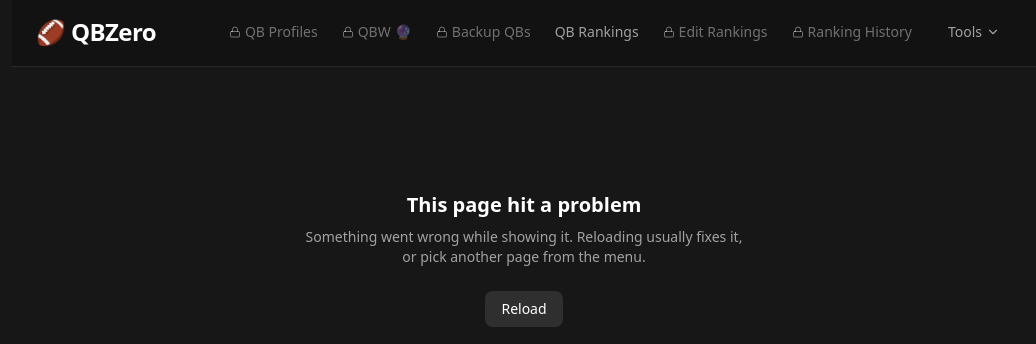
SiteLayout page error boundary › clears the error when the visitor moves to another page
Expected: the heading "This page hit a problem" is shown, [407,191,641,218]
Click the link "🏈 QBZero" at (96,32), box [36,16,156,48]
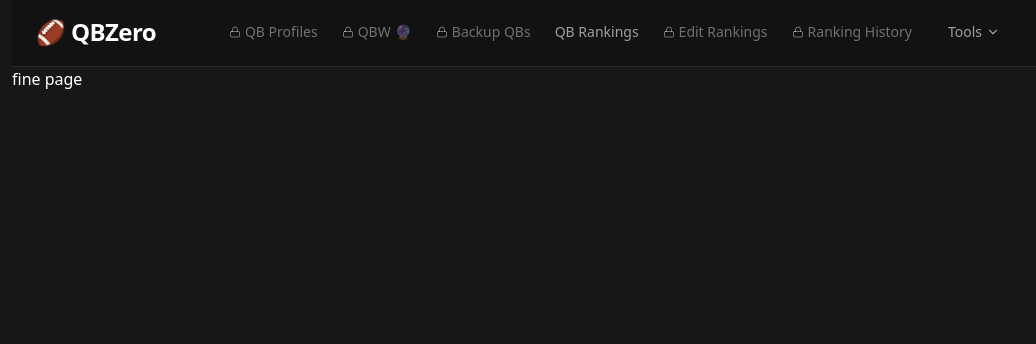
Now the heading "This page hit a problem" is gone
Now the text "fine page" is shown, box [12,68,82,90]
